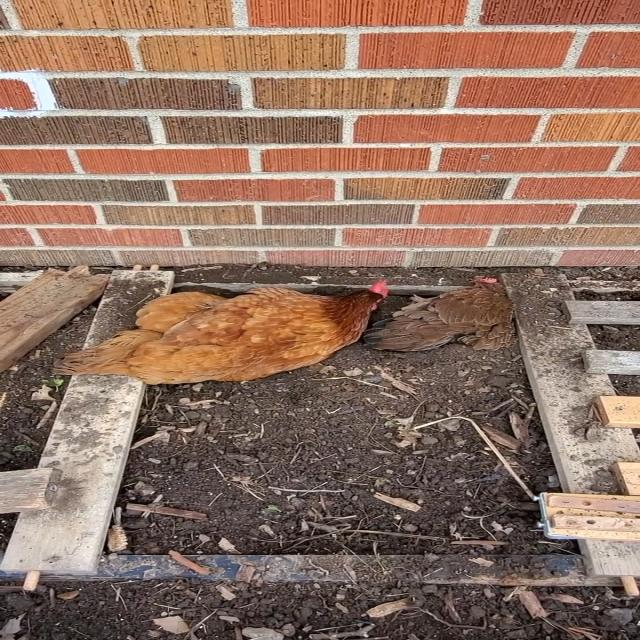stand bath: (89, 268, 400, 395), (364, 265, 528, 358)
